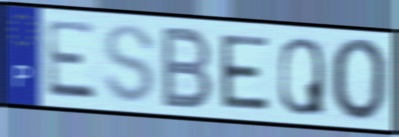B: (159, 24, 216, 111)
E: (44, 18, 100, 103), (217, 32, 272, 113)
O: (328, 36, 390, 126)
Q: (277, 35, 327, 119)
S: (101, 21, 158, 106)
